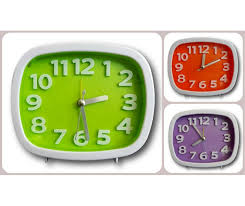alarm_clock: (13, 43, 158, 162)
